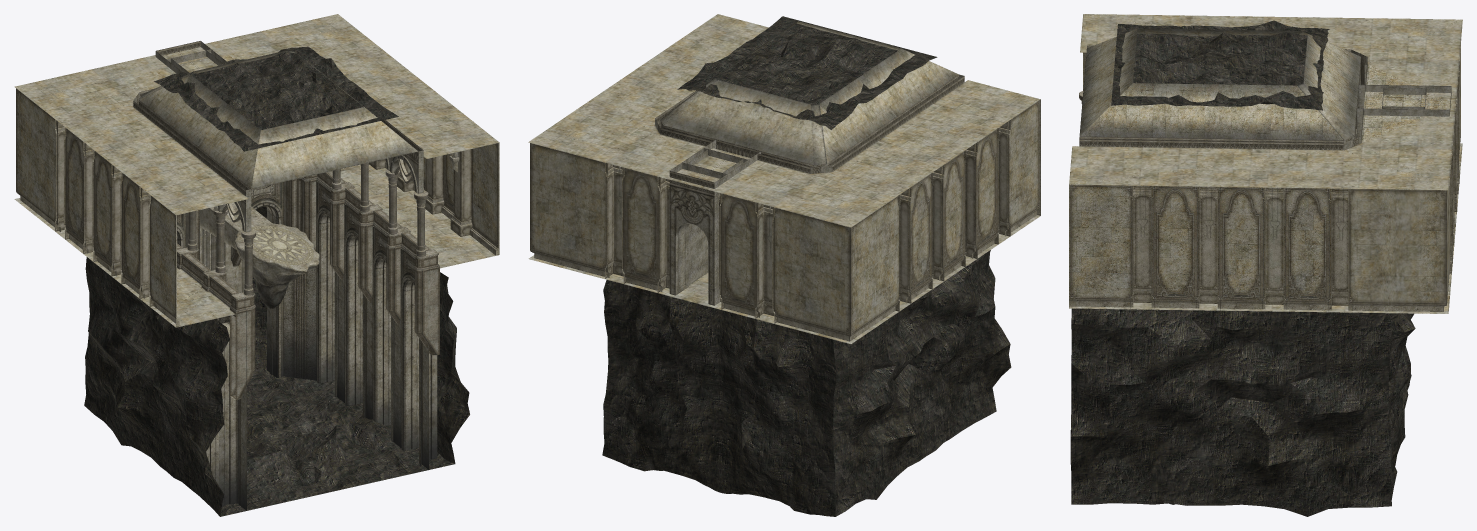
The picture shows the model from 3 angles, left to right: view 1: azimuth 30°, elevation 25°; view 2: azimuth 150°, elevation 25°; view 3: azimuth 270°, elevation 25°; orthographic projection. The views are drawn at different scales.
Parts seen in each view (by area): view 1: ac_cavern_2162.Shape, ac_corridor_348.Shape, ac_archpillarR_7568.Shape, ac_outerwallL_5010.Shape, ac_ceiling_24.Shape, ac_innerwallR_30463.Shape, ac_innerwallL_34549.Shape, ac_outerwallR_4692.Shape, ac_platform_3416.Shape, ac_archpillarL_7577.Shape, ac_doorway_1376.Shape; view 2: ac_cavern_2162.Shape, ac_outerwallL_5010.Shape, ac_corridor_348.Shape, ac_outerwallR_4692.Shape, ac_ceiling_24.Shape, ac_doorway_1376.Shape, ac_innerwallL_34549.Shape, ac_innerwallR_30463.Shape; view 3: ac_cavern_2162.Shape, ac_outerwallR_4692.Shape, ac_corridor_348.Shape, ac_ceiling_24.Shape, ac_innerwallR_30463.Shape, ac_doorway_1376.Shape, ac_outerwallL_5010.Shape.
Part boxes in pixels (x1,y1,x2,y2): ac_cavern_2162.Shape: (84, 46, 469, 516); ac_corridor_348.Shape: (14, 14, 499, 327); ac_archpillarR_7568.Shape: (214, 181, 437, 469); ac_outerwallL_5010.Shape: (16, 88, 218, 327); ac_ceiling_24.Shape: (139, 50, 417, 188); ac_innerwallR_30463.Shape: (231, 120, 439, 355); ac_innerwallL_34549.Shape: (133, 88, 255, 400); ac_outerwallR_4692.Shape: (369, 142, 499, 255); ac_platform_3416.Shape: (200, 202, 319, 308); ac_archpillarL_7577.Shape: (177, 213, 246, 510); ac_doorway_1376.Shape: (155, 41, 226, 73); ac_cavern_2162.Shape: (602, 16, 1011, 516); ac_outerwallL_5010.Shape: (719, 99, 1040, 341); ac_corridor_348.Shape: (528, 14, 1040, 343); ac_outerwallR_4692.Shape: (530, 143, 669, 292); ac_ceiling_24.Shape: (660, 21, 958, 164); ac_doorway_1376.Shape: (669, 139, 760, 305); ac_innerwallL_34549.Shape: (757, 74, 964, 173); ac_innerwallR_30463.Shape: (655, 90, 715, 146); ac_cavern_2162.Shape: (1070, 20, 1415, 516); ac_outerwallR_4692.Shape: (1069, 125, 1454, 311); ac_corridor_348.Shape: (1069, 14, 1462, 313); ac_ceiling_24.Shape: (1079, 28, 1360, 140); ac_innerwallR_30463.Shape: (1079, 111, 1363, 150); ac_doorway_1376.Shape: (1357, 84, 1451, 137); ac_outerwallL_5010.Shape: (1083, 45, 1460, 211).
Size of the model in its own units: 17.57 by 18.58 by 16.59.
